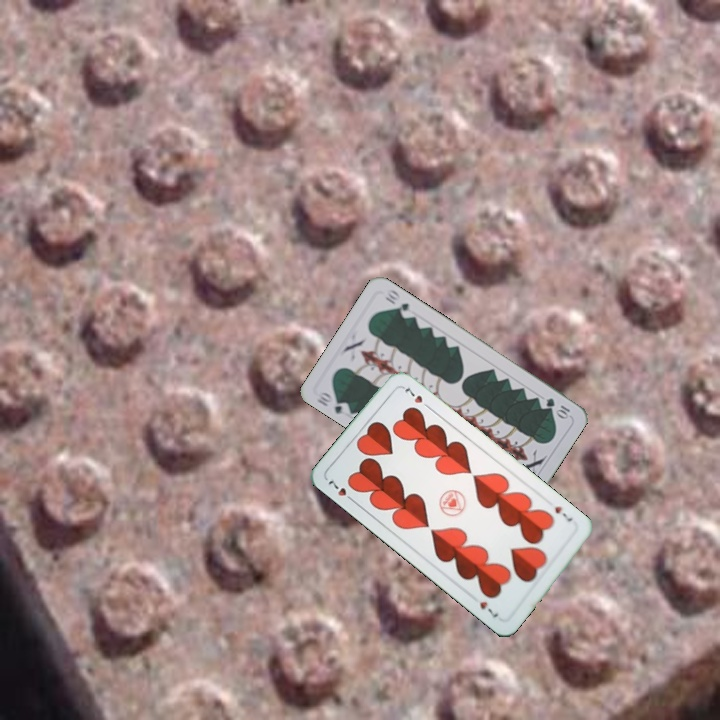G10: (311, 387, 353, 418), (542, 394, 572, 421)
H7: (324, 474, 357, 505), (550, 502, 575, 524)
